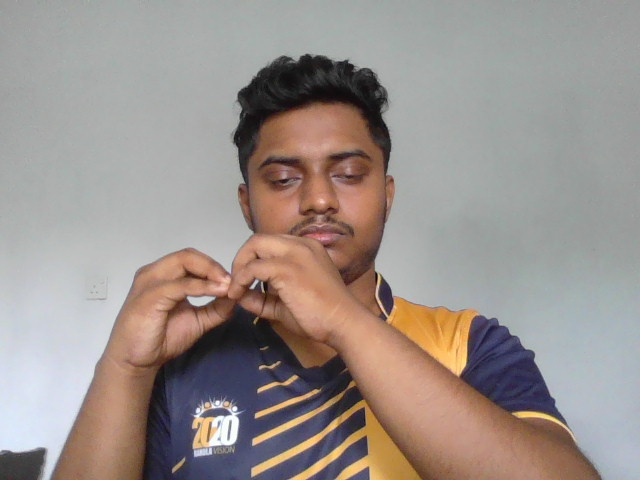More: (112, 229, 360, 371)
